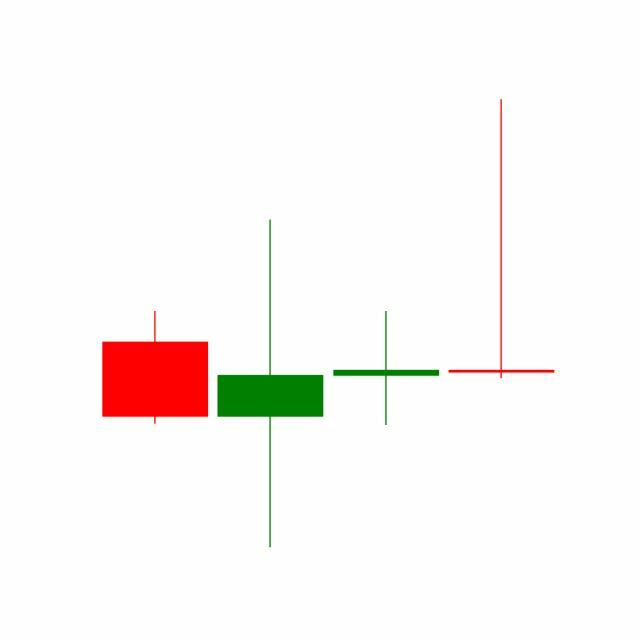Spinning Top: (329, 310, 445, 427)
